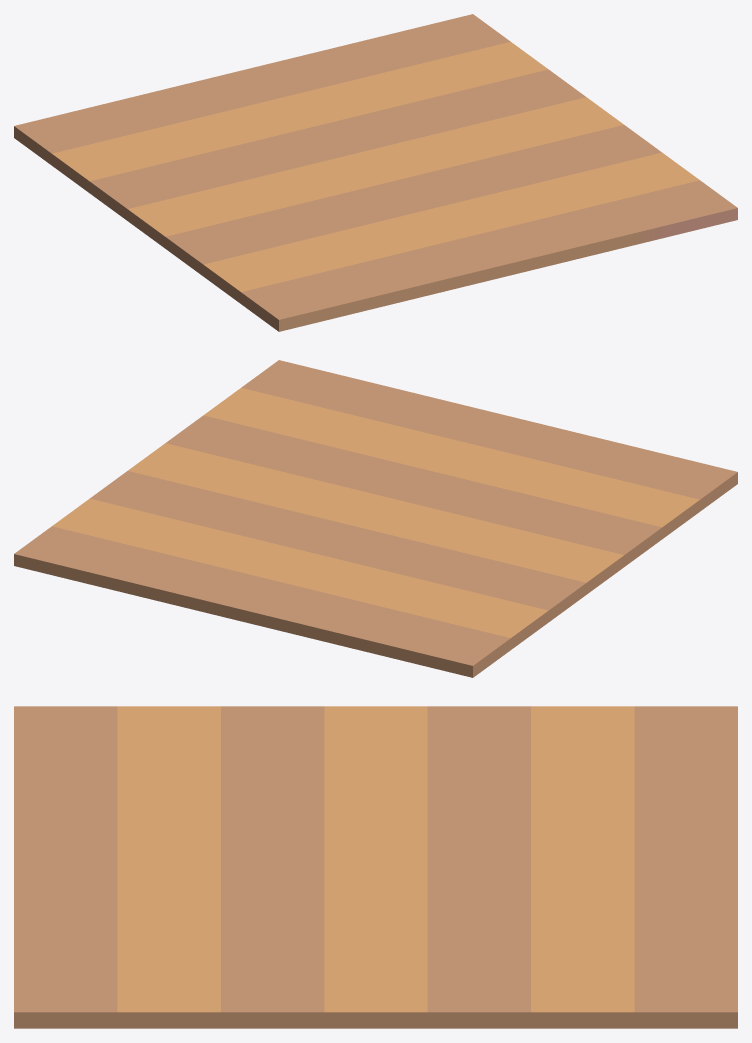
The model's file is KA_parkaient_1.fbx.
The picture shows the model from 3 angles, top to bottom: view 1: azimuth 30°, elevation 25°; view 2: azimuth 150°, elevation 25°; view 3: azimuth 270°, elevation 25°; orthographic projection. The views are drawn at different scales.
Parts seen in each view (by area): view 1: Object001; view 2: Object001; view 3: Object001.
Part boxes in pixels (x1,y1,x2,y2): Object001: (14, 14, 737, 331); Object001: (14, 360, 737, 677); Object001: (14, 706, 737, 1028).
Size of the model in its own units: 78.74 by 1.97 by 78.74.
